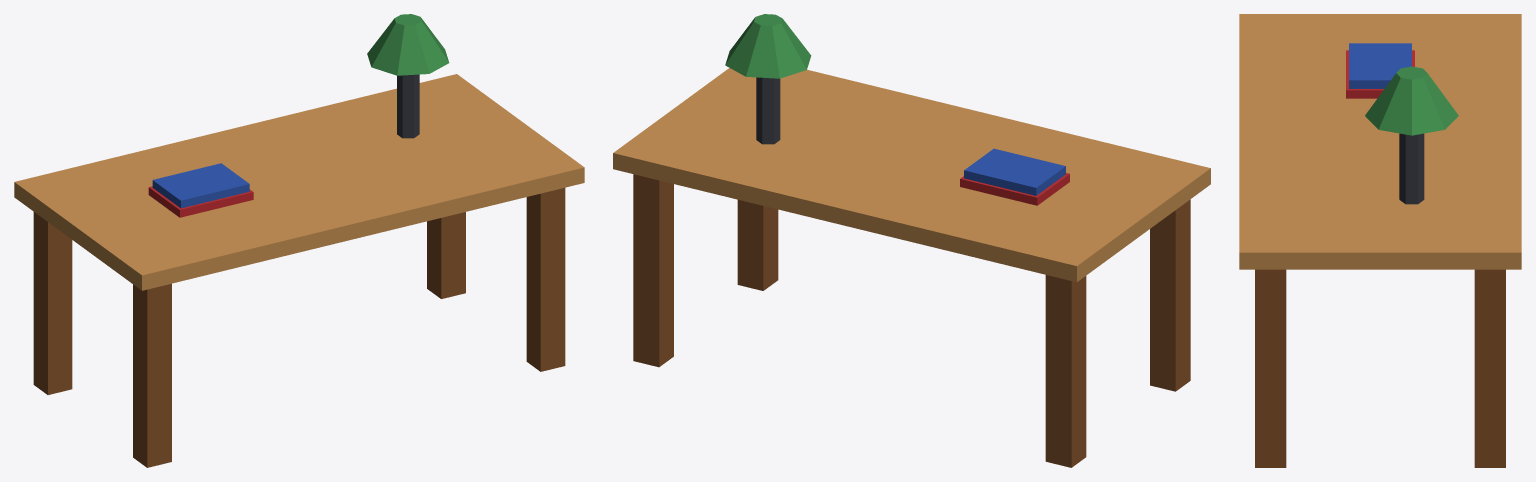
The model's file is reading_table.fbx.
3 views of the same model, side by side, from view 1: azimuth 30°, elevation 25°; view 2: azimuth 150°, elevation 25°; view 3: azimuth 270°, elevation 25° (orthographic). The views are drawn at different scales.
Visible parts, largest first — view 1: reading_table; view 2: reading_table; view 3: reading_table.
Boxes of the visible parts, x1,y1,x2,y2 form: reading_table: [14, 14, 584, 467]; reading_table: [613, 14, 1210, 467]; reading_table: [1239, 14, 1521, 467].
Size of the model in its own units: 1.8 by 1.23 by 0.9.
